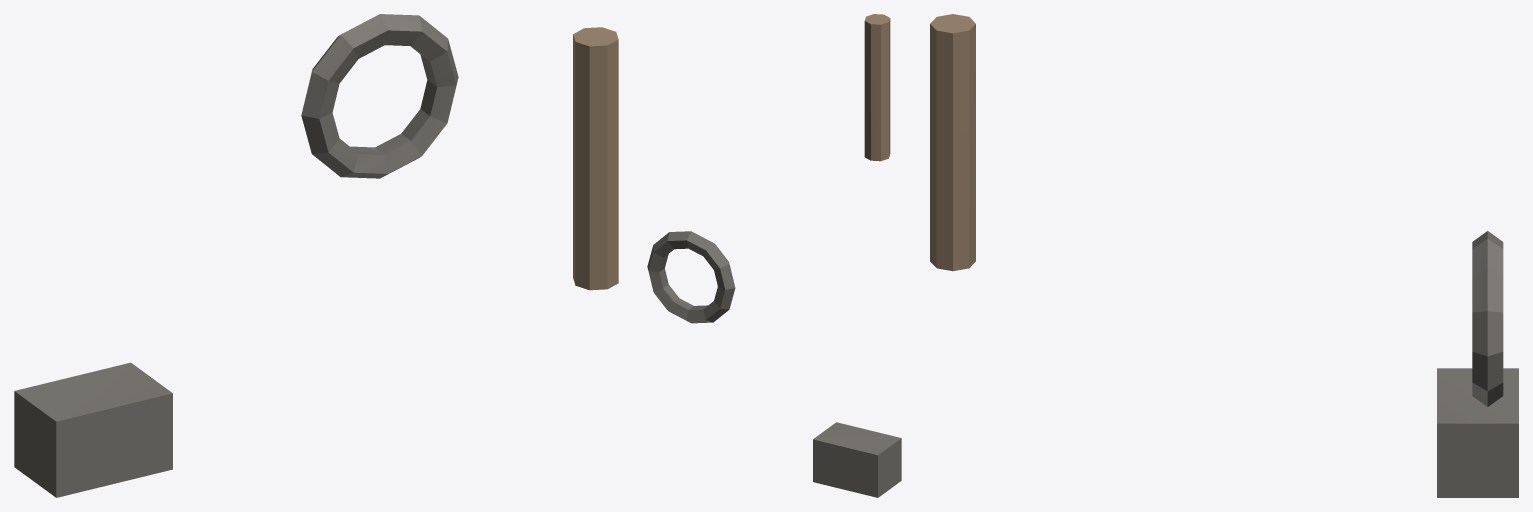
Rendered from workshop_l1.glb.
3 renders of one model, left to right at view 1: azimuth 30°, elevation 25°; view 2: azimuth 150°, elevation 25°; view 3: azimuth 270°, elevation 25°, orthographic. The views are drawn at different scales.
Parts seen in each view (by area): view 1: gear2; view 2: gear2; view 3: gear2.
Part boxes in pixels (x1,y1,x2,y2): gear2: [14, 14, 618, 497]; gear2: [647, 14, 901, 497]; gear2: [930, 14, 1518, 497].
Bounding box in the file's own units: 1.47 × 1.87 × 1.8.
